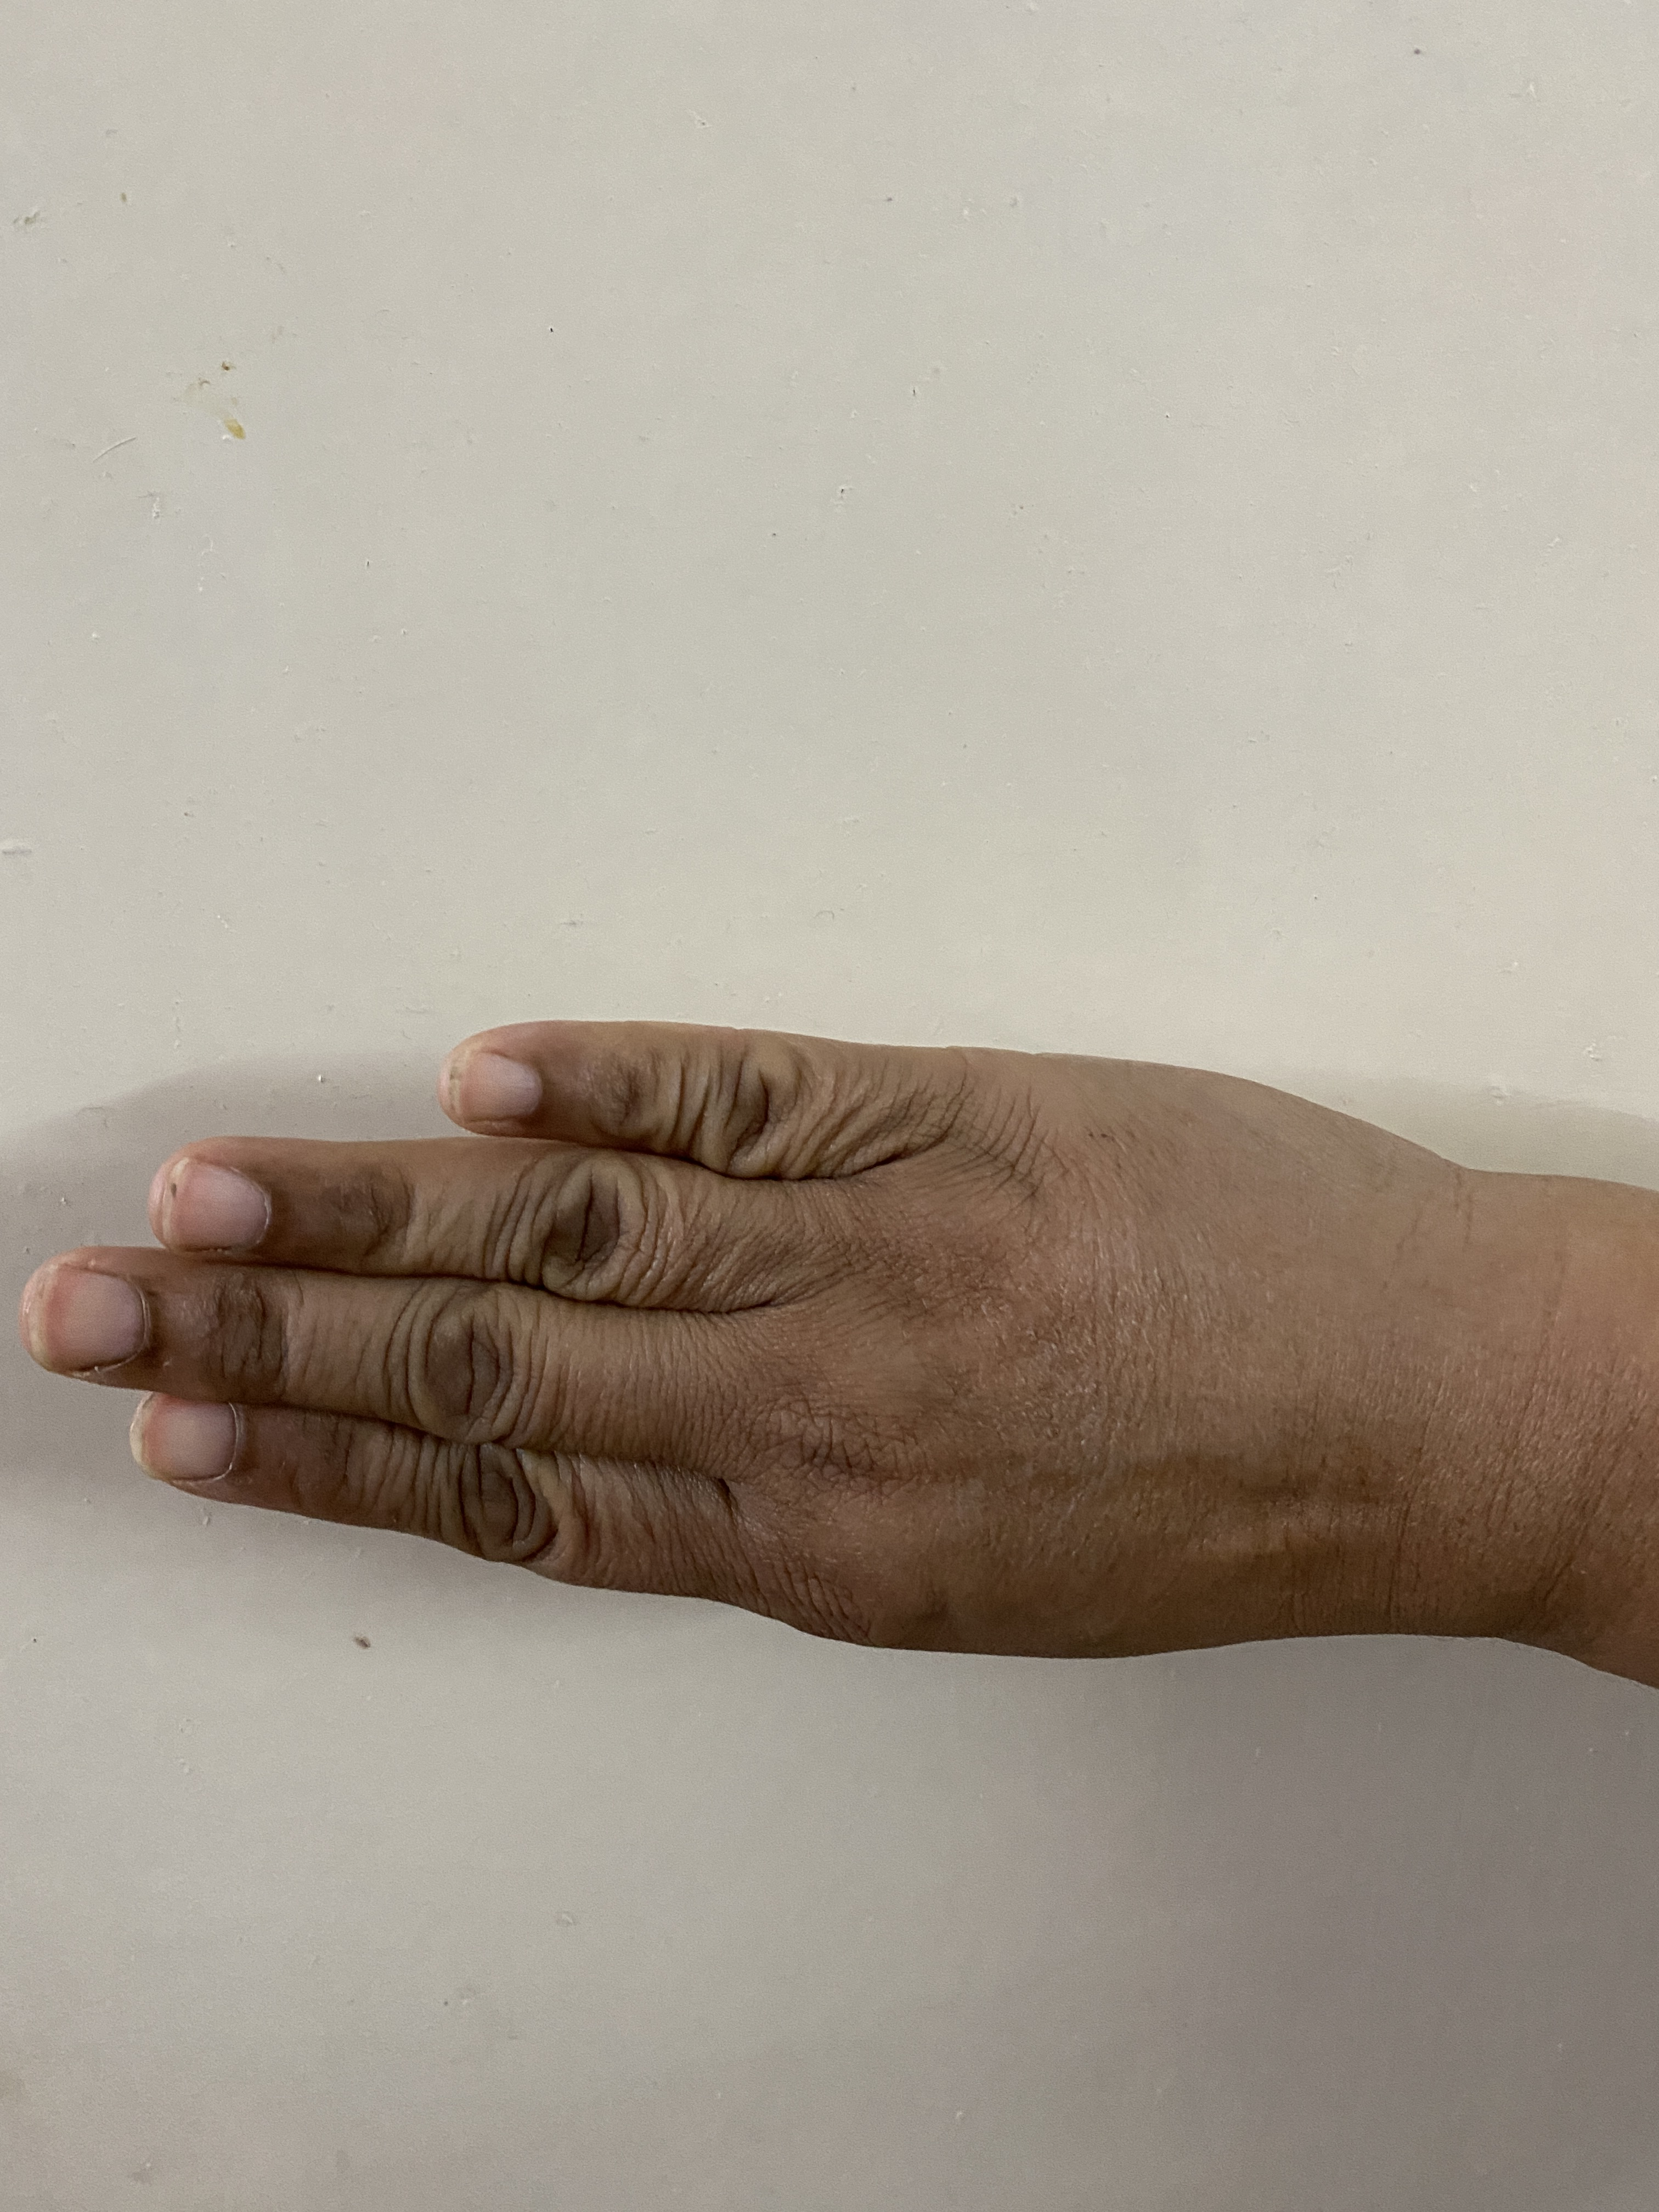right: (56, 658, 1643, 1770)
